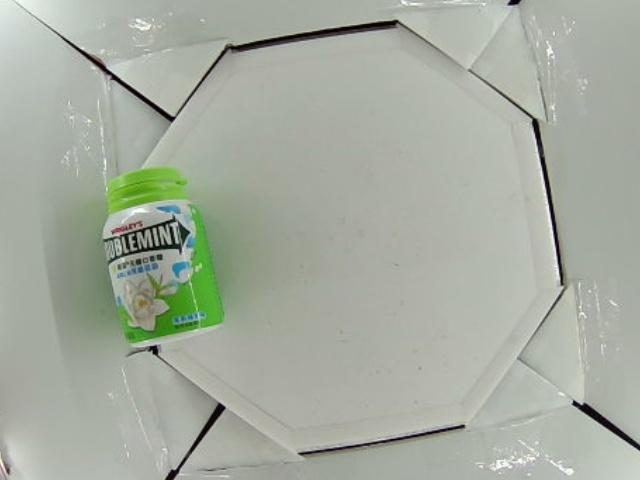Bottle: (101, 170, 223, 351)
